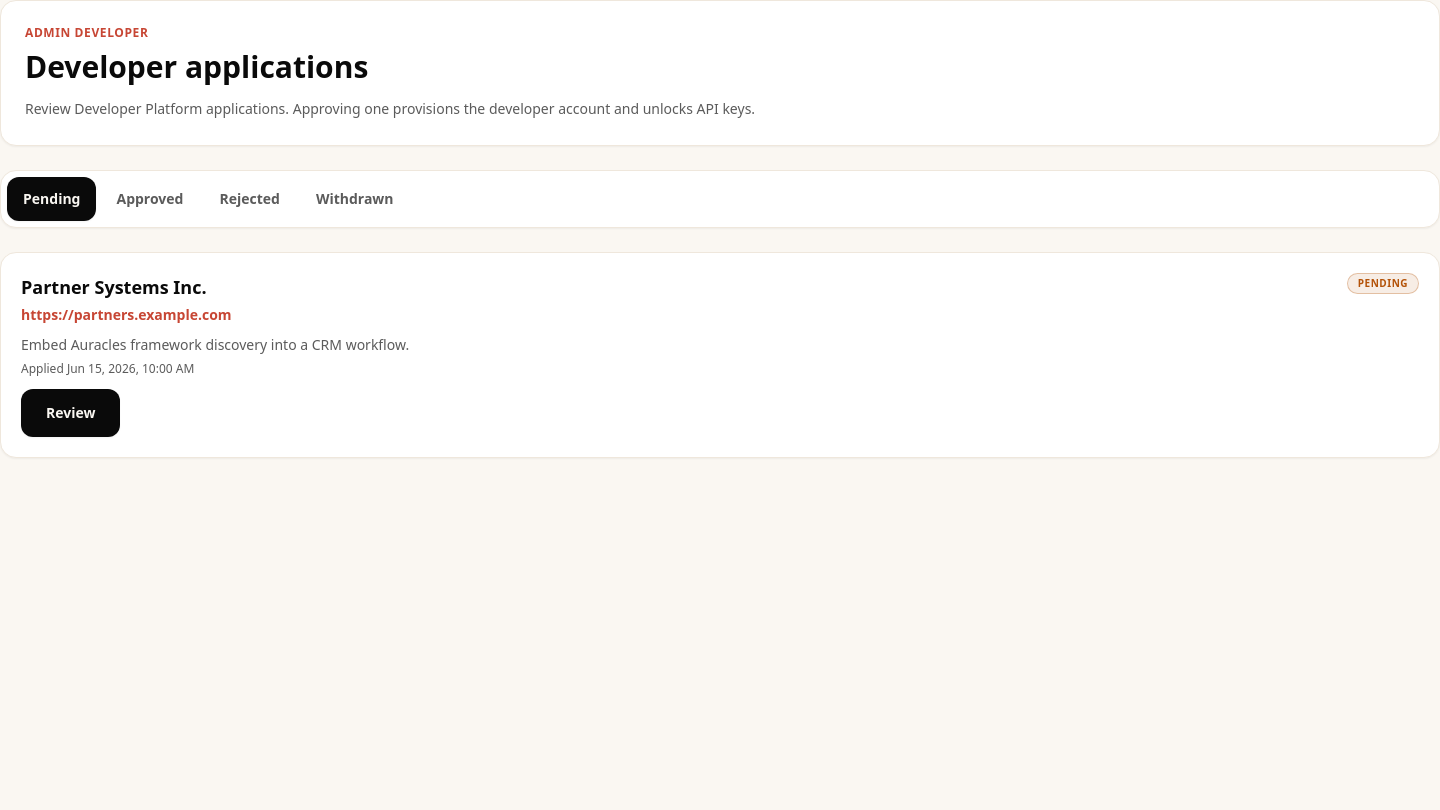
Scenario: AdminDeveloperApplicationsPanel › approves an application and removes it from the queue
Click the button "Review": x=71, y=413 [21,389,120,437]
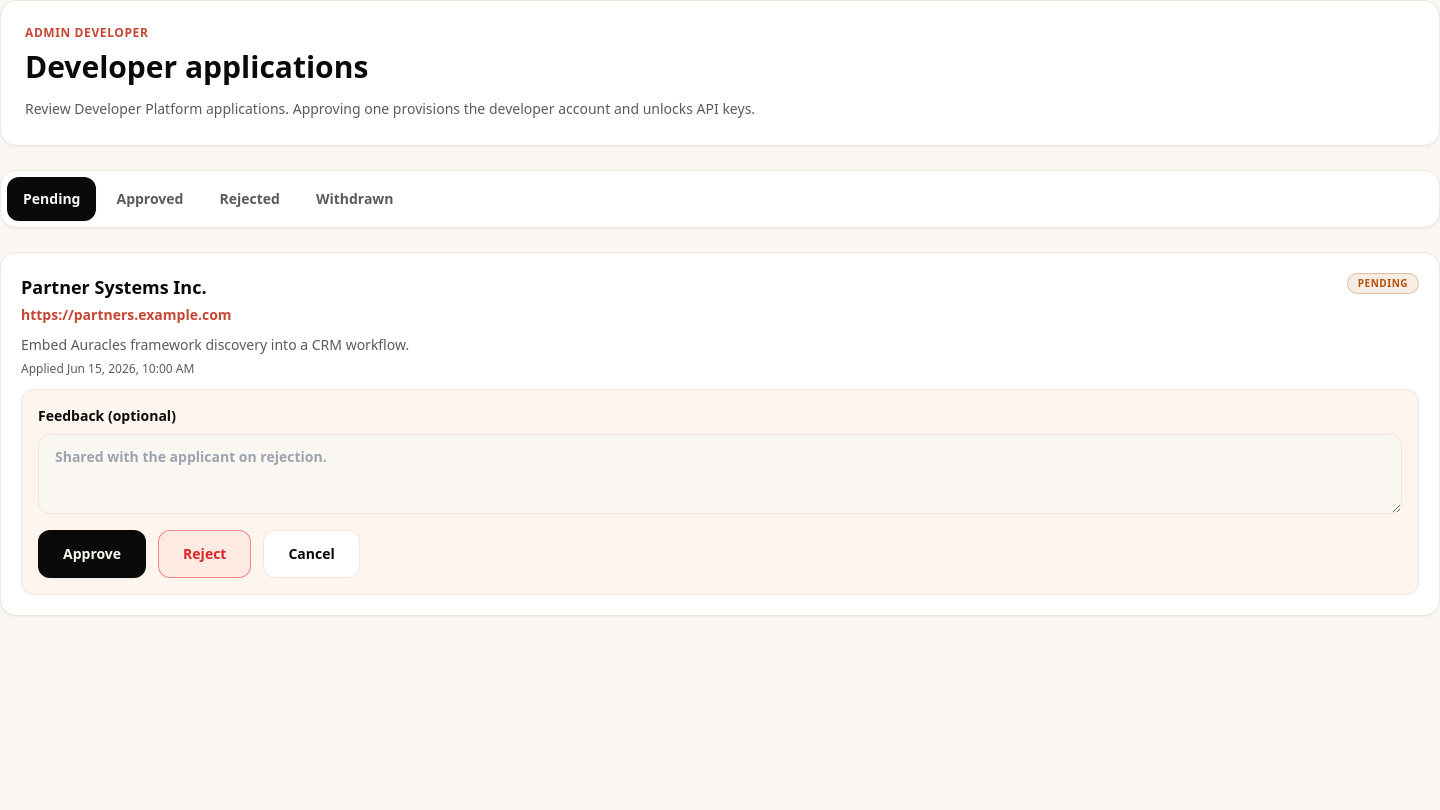
Click the button "Approve": x=92, y=554 [38,530,146,578]
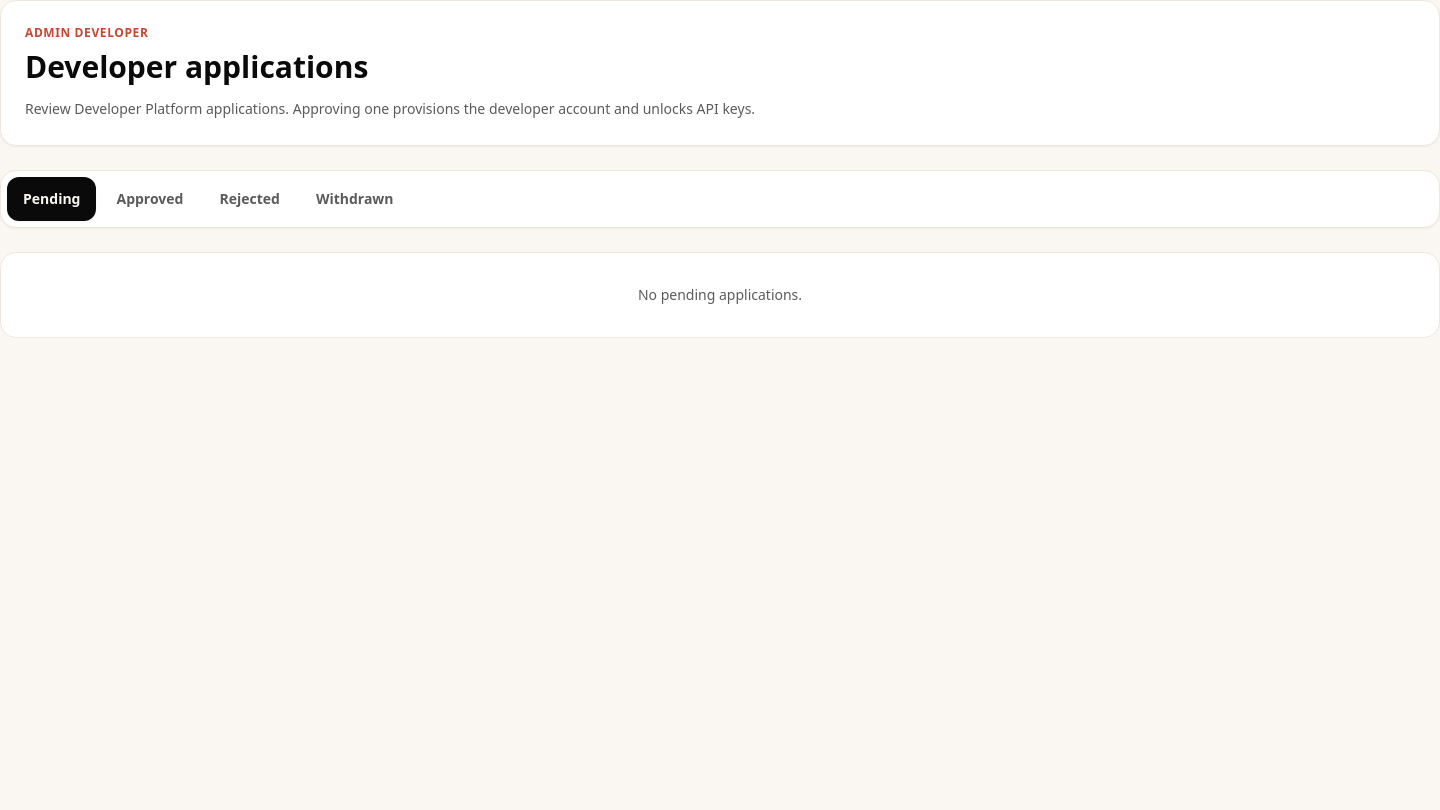
Expected: the heading "Partner Systems Inc." is gone
